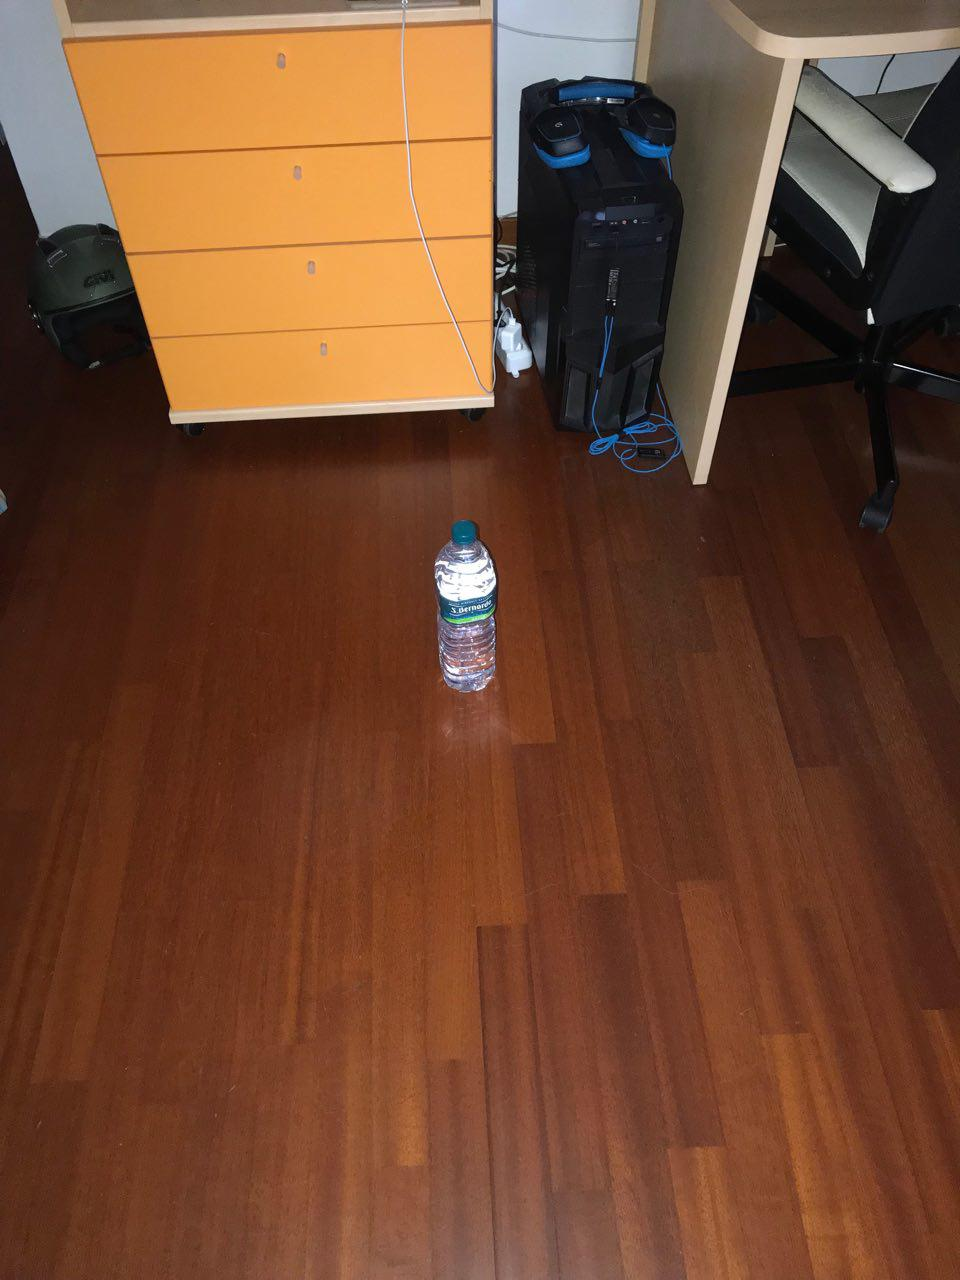san_bernardo: (432, 518, 499, 694)
